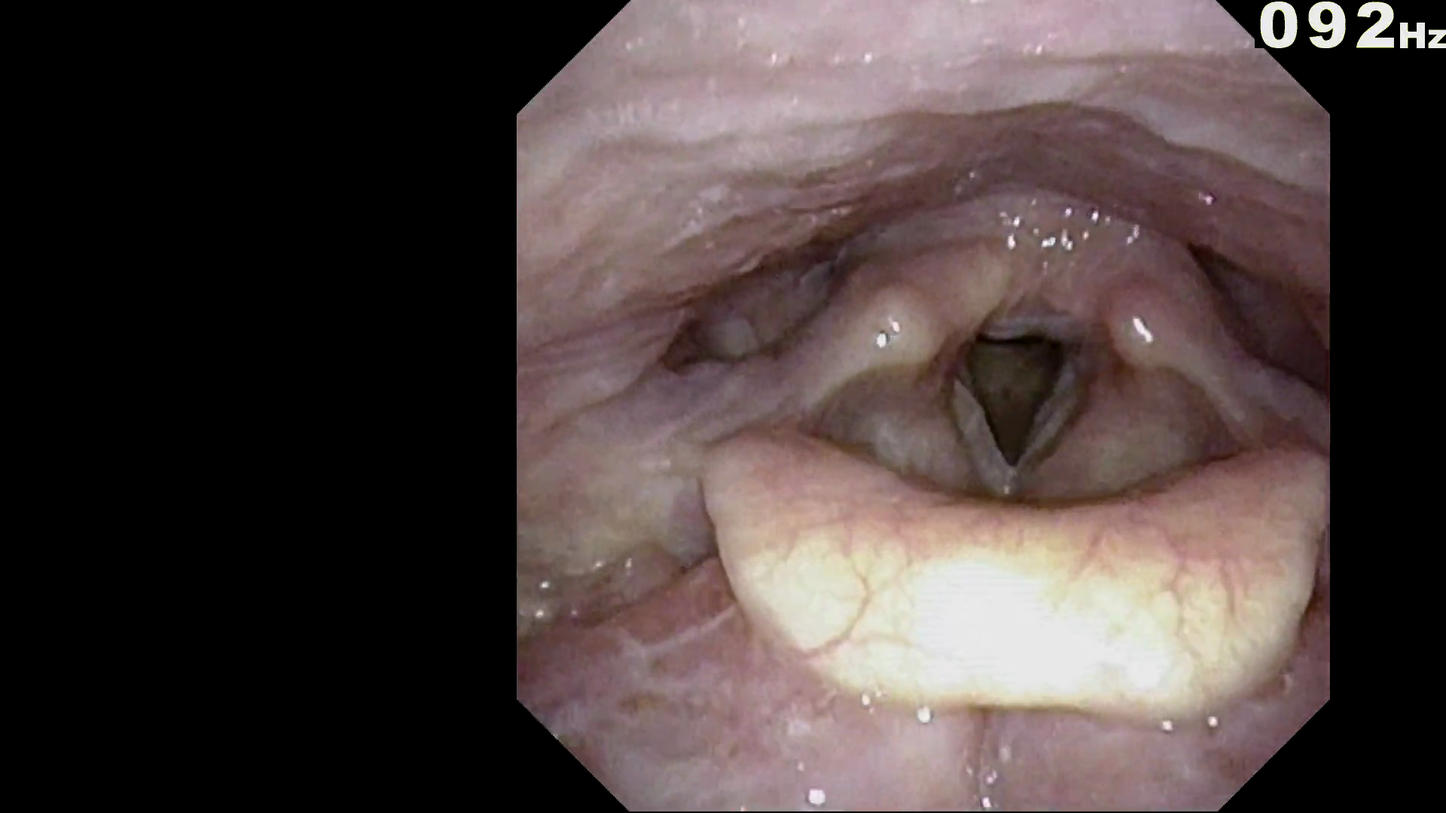epiglottis: (692, 420, 1309, 699)
trachea: (927, 304, 1104, 510)
